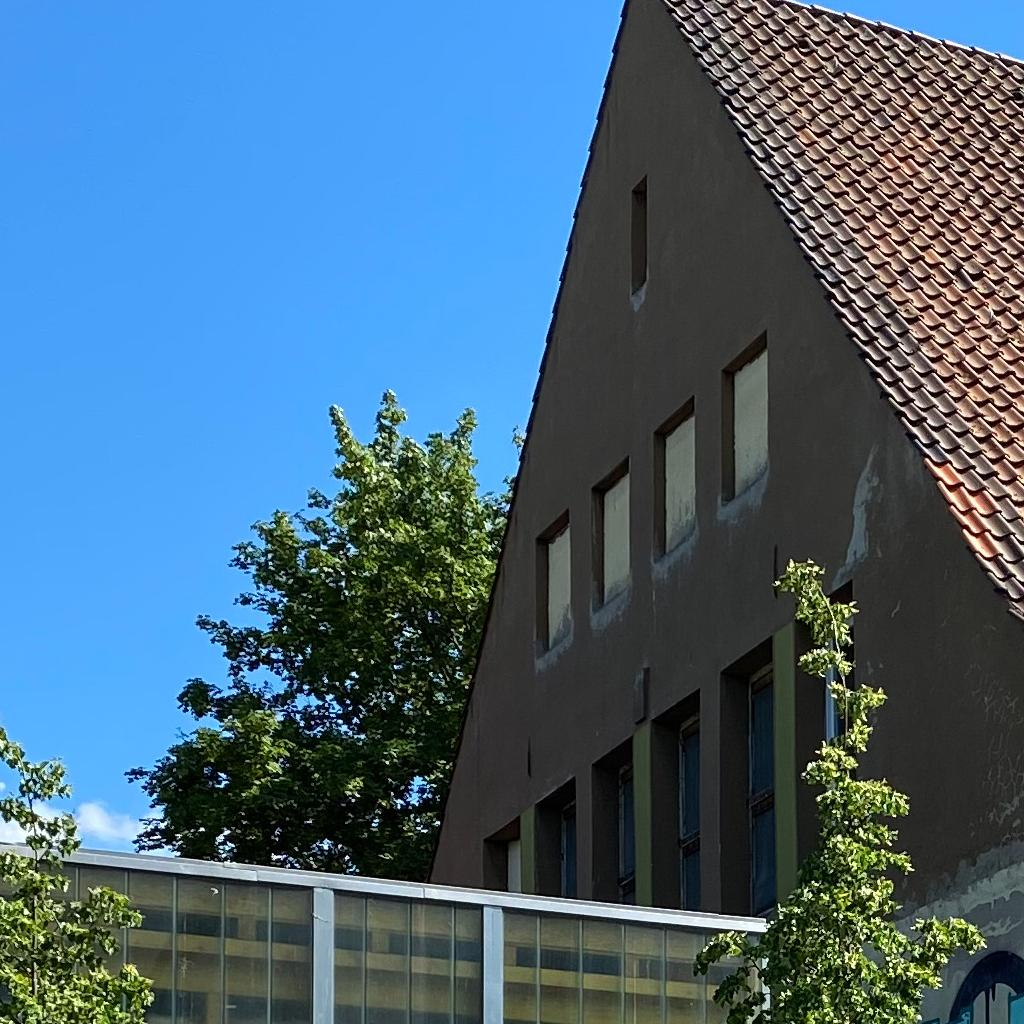tree: (123, 388, 526, 885), (692, 556, 988, 1023), (1, 721, 156, 1023)
